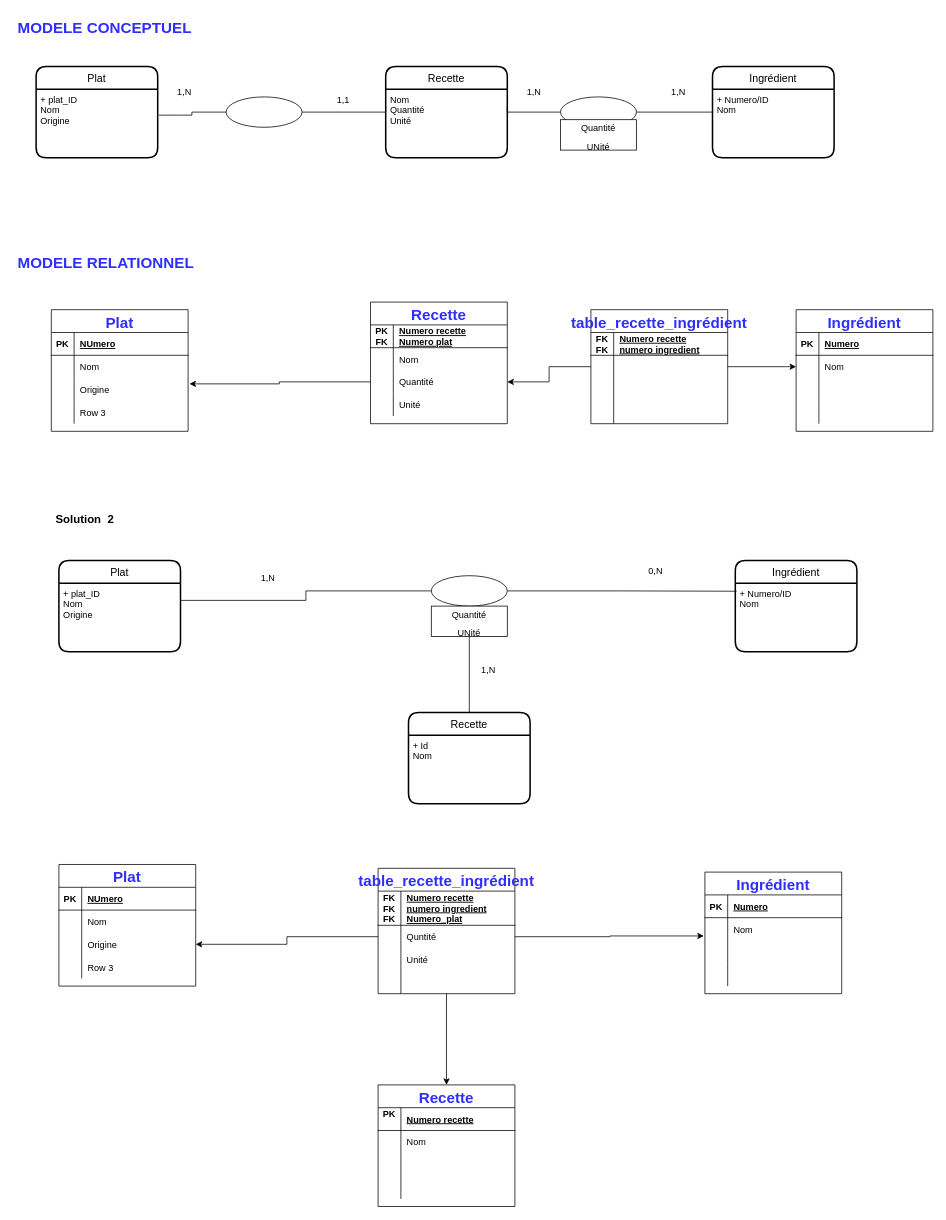
Some shapes in this 946 by 1220 pixel diagram are drawn without their labels. The shapes that lost their labels are listed below. From the top down, each one's centre as x and y in pixels, then its label:
[263,111]: COMPOSER
[598,111]: CONTENIR
[469,590]: Composé
